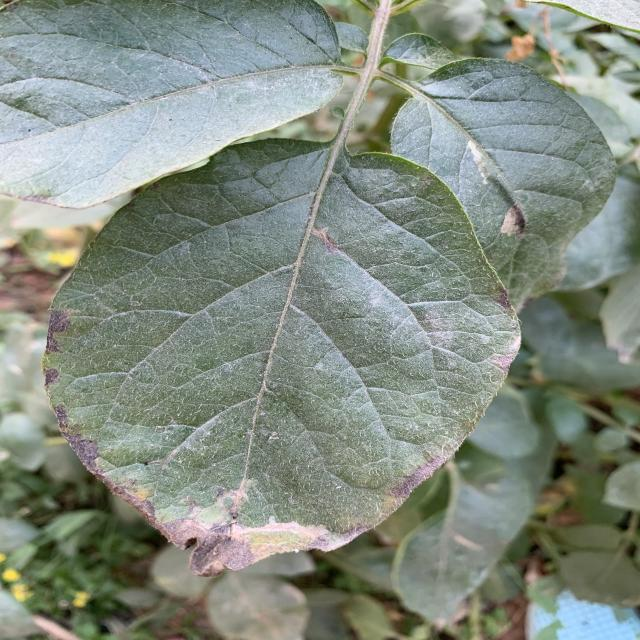lateblight: (105, 461, 262, 576), (248, 516, 357, 559), (387, 450, 453, 502), (57, 405, 103, 474), (47, 310, 70, 361), (45, 368, 60, 389)
